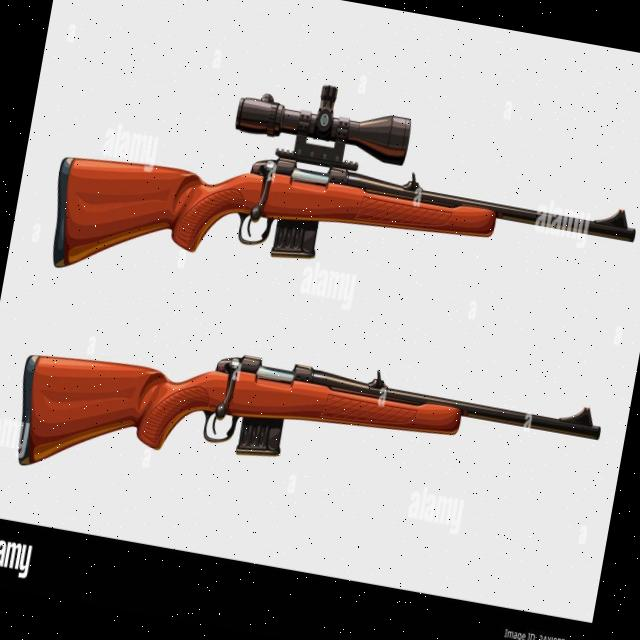Sniper: (49, 50, 640, 349), (9, 313, 619, 557)
